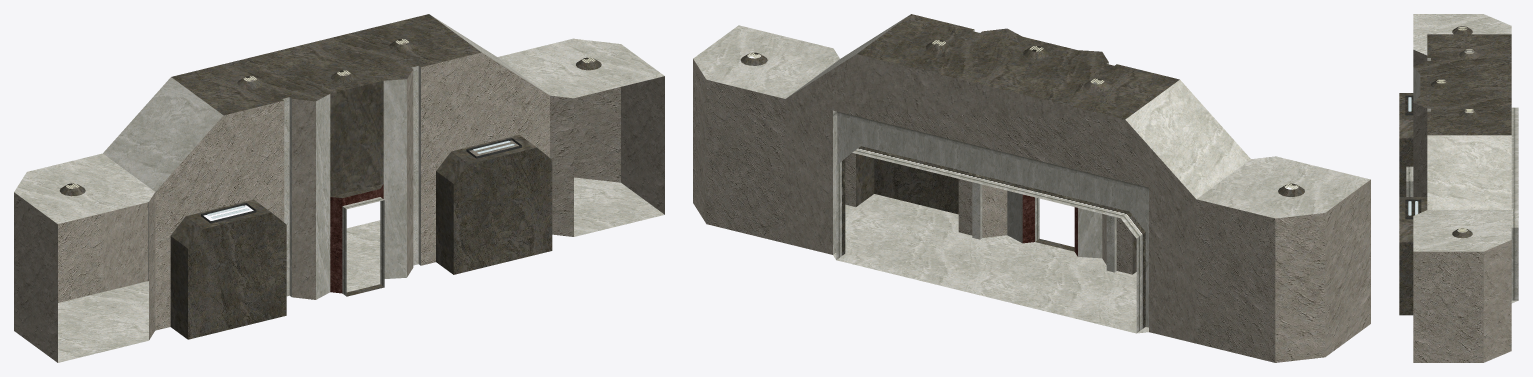
Rendered from ply_tato_assoc_hall_civ_s01_r2_foyer_mesh_foyer.fbx.
The picture shows the model from 3 angles, left to right: view 1: azimuth 30°, elevation 25°; view 2: azimuth 150°, elevation 25°; view 3: azimuth 270°, elevation 25°; orthographic projection. The views are drawn at different scales.
Parts seen in each view (by area): view 1: mesh_node; view 2: mesh_node; view 3: mesh_node.
Boxes of the visible parts, x1,y1,x2,y2 form: mesh_node: [14, 14, 664, 362]; mesh_node: [693, 14, 1370, 362]; mesh_node: [1399, 14, 1518, 362].
Size of the model in its own units: 20 by 6.39 by 4.25.
